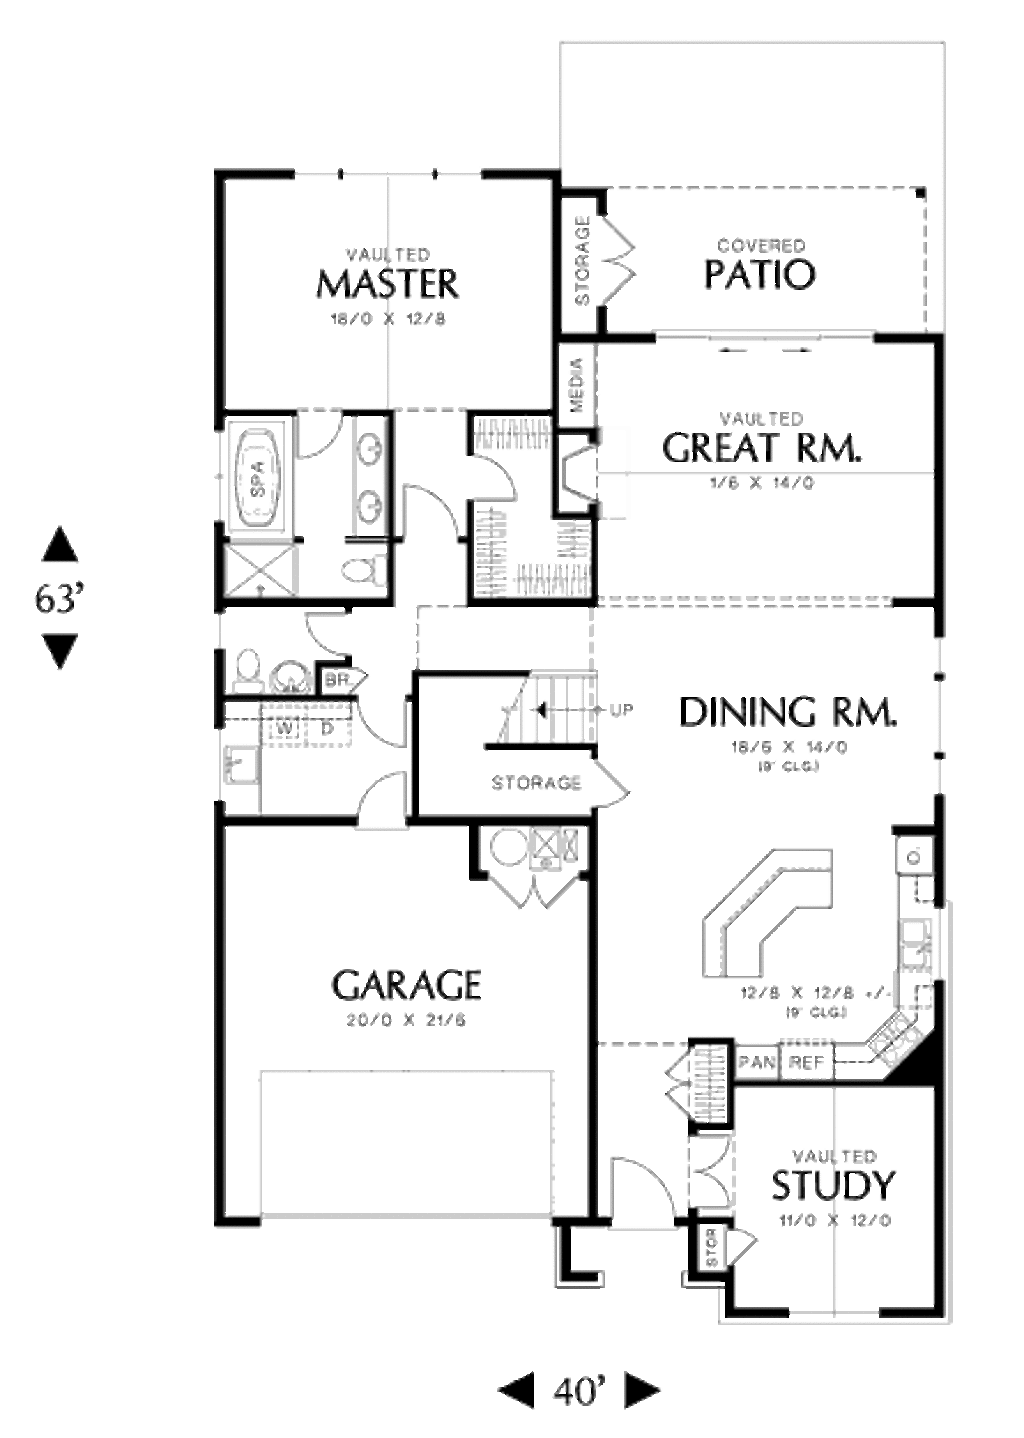door: (578, 204, 648, 315), (606, 1151, 688, 1228), (475, 862, 593, 913), (393, 462, 455, 548), (679, 1128, 733, 1218), (293, 599, 362, 664), (570, 751, 626, 826), (355, 768, 413, 835), (455, 442, 515, 506), (297, 399, 342, 473), (350, 695, 408, 751), (662, 1052, 695, 1126)
kitchen_bar: (666, 816, 859, 1002)
large_sink: (215, 637, 279, 722), (330, 542, 393, 602)
small_sink: (354, 413, 382, 555), (259, 648, 313, 708)
stairs: (470, 668, 617, 742)
tub: (226, 413, 290, 537)
twin_sink: (885, 897, 962, 977)
